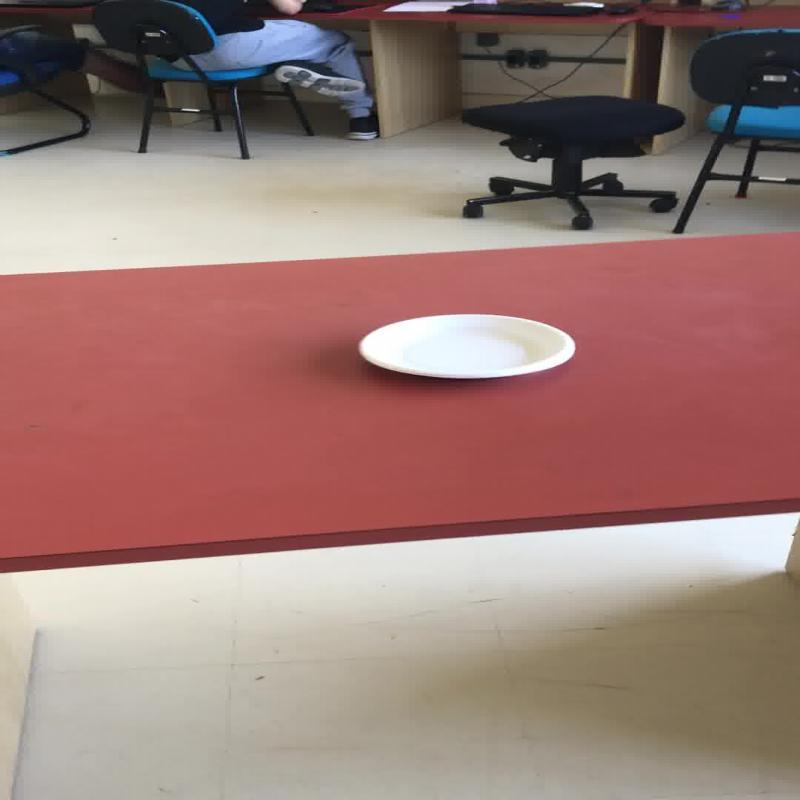plate: (357, 312, 576, 380)
